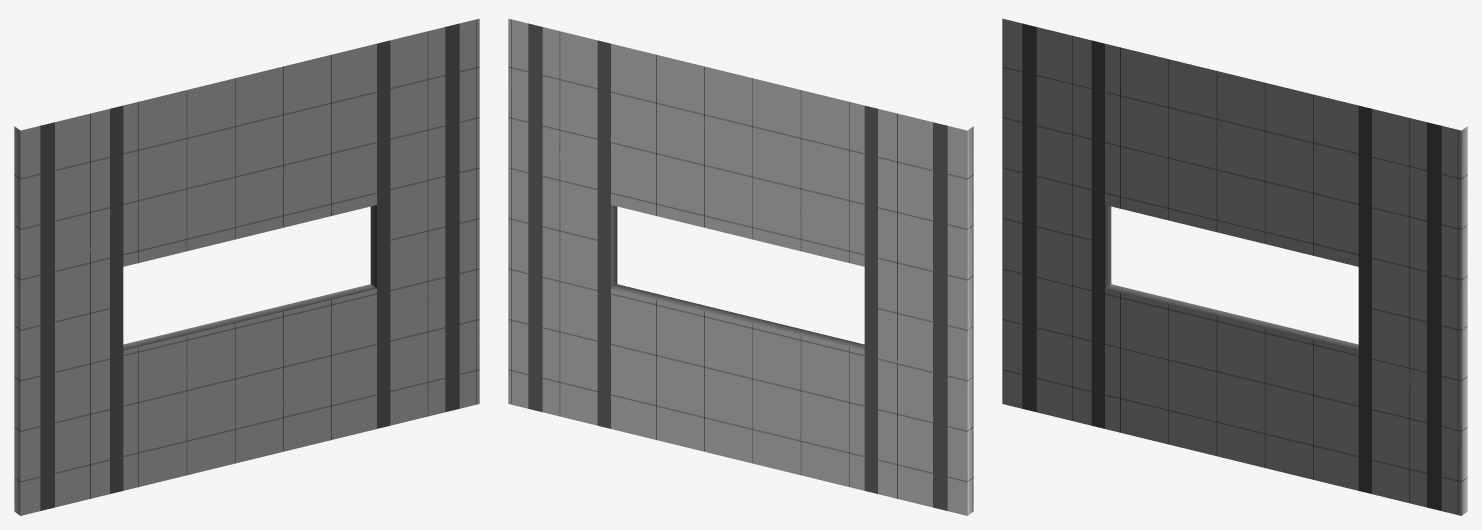
Rendered from AMB_SENT_WALL.glb.
3 views of the same model, side by side, from view 1: azimuth 30°, elevation 25°; view 2: azimuth 150°, elevation 25°; view 3: azimuth 330°, elevation 25° (orthographic).
Visible parts, largest first — view 1: J00; view 2: J00; view 3: J00.
Boxes of the visible parts, <box> form: J00: <box>14,18,479,515</box>; J00: <box>508,18,973,515</box>; J00: <box>1002,18,1467,515</box>.
Bounding box in the file's own units: 29.1 × 23.34 × 0.6834.
Materials: 2 (2 with a texture image).
